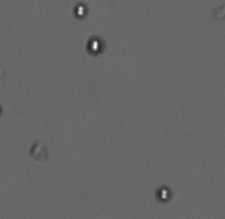Dead Cell: (30, 141, 49, 158)
Living Cell: (153, 184, 175, 202), (87, 35, 106, 55), (73, 2, 89, 18)
